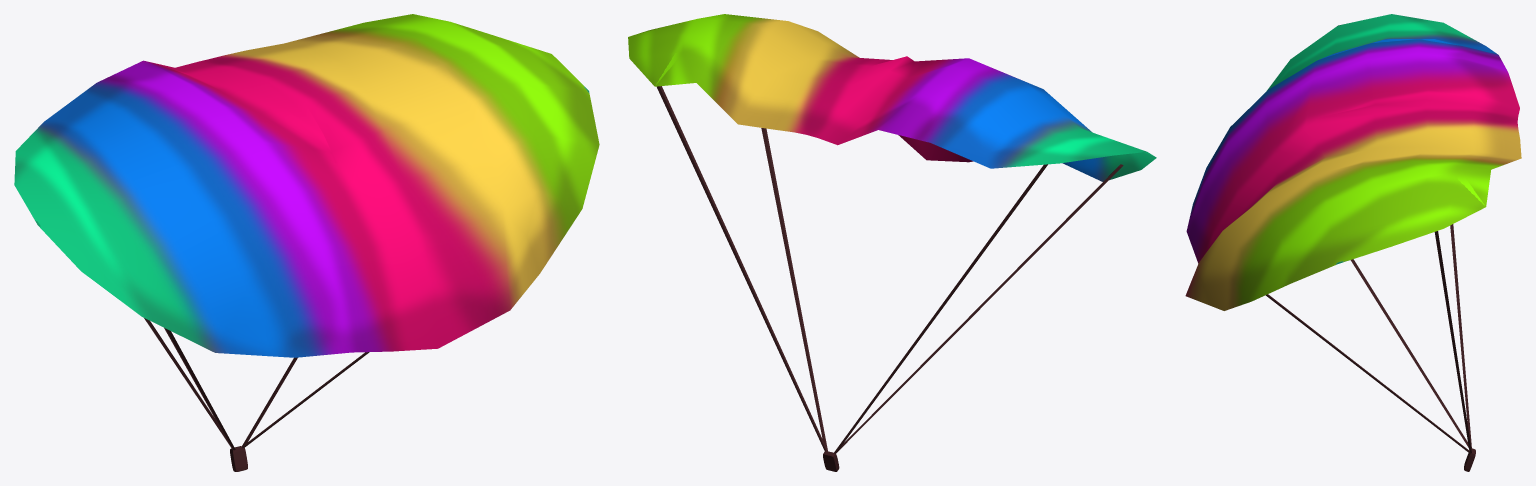
File: Parachute.fbx
3 renders of one model, left to right at view 1: azimuth 30°, elevation 25°; view 2: azimuth 150°, elevation 25°; view 3: azimuth 270°, elevation 25°, orthographic. The views are drawn at different scales.
Parts seen in each view (by area): view 1: PARACHUTE; view 2: PARACHUTE; view 3: PARACHUTE.
Boxes of the visible parts, bbox=[...] form: PARACHUTE: bbox=[14, 14, 599, 471]; PARACHUTE: bbox=[628, 14, 1156, 471]; PARACHUTE: bbox=[1185, 14, 1521, 471].
Bounding box in the file's own units: 1778 × 1321 × 1059.
Materials: 2 (1 with a texture image).
